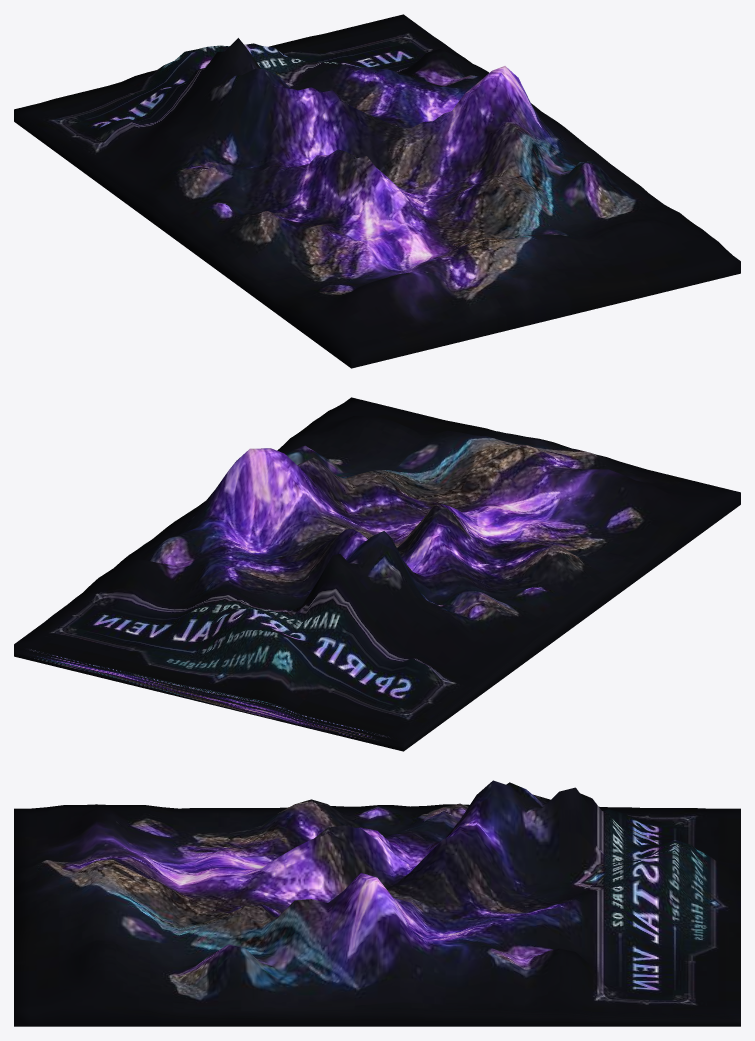
The model's file is ORE_02_Spirit_Crystal_Vein.glb.
3 views of the same model, one above another, from view 1: azimuth 30°, elevation 25°; view 2: azimuth 150°, elevation 25°; view 3: azimuth 270°, elevation 25° (orthographic). The views are drawn at different scales.
Parts seen in each view (by area): view 1: ORE_02_Spirit_Crystal_Vein; view 2: ORE_02_Spirit_Crystal_Vein; view 3: ORE_02_Spirit_Crystal_Vein.
Boxes of the visible parts, x1=… form: ORE_02_Spirit_Crystal_Vein: x1=14, y1=14, x2=740, y2=368; ORE_02_Spirit_Crystal_Vein: x1=14, y1=397, x2=740, y2=751; ORE_02_Spirit_Crystal_Vein: x1=14, y1=780, x2=740, y2=1026.
Bounding box in the file's own units: 2 × 0.51 × 3.
1 material, 1 textured.
